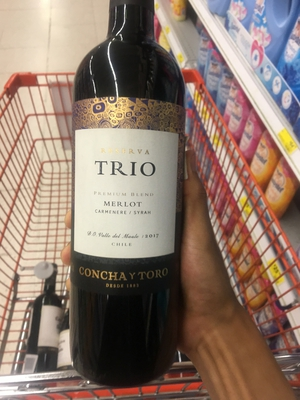trio merlot: (59, 6, 204, 385)
